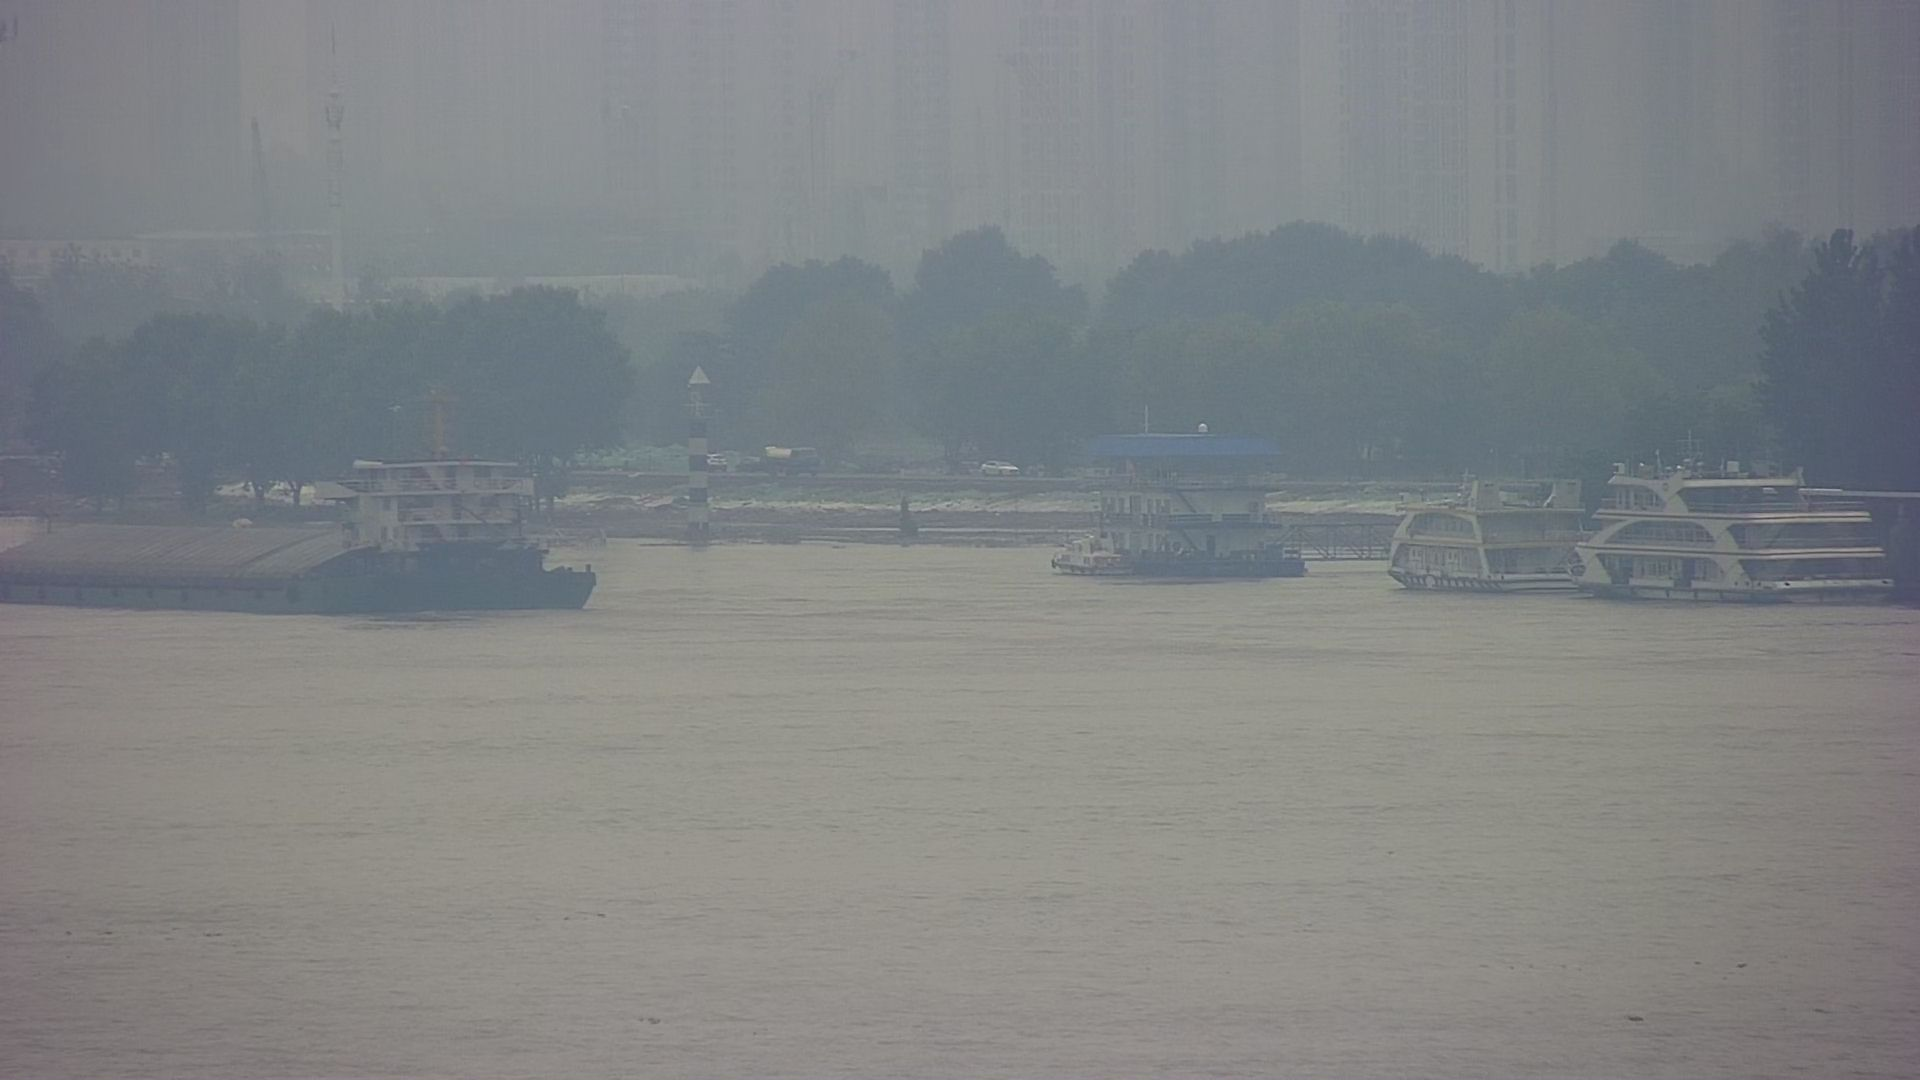ship: (4, 380, 596, 605), (1576, 454, 1898, 607), (1054, 430, 1309, 580), (1378, 480, 1589, 585)
